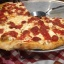pepperoni: (23, 20, 47, 40), (3, 27, 24, 40)
pizza: (1, 1, 64, 49)
